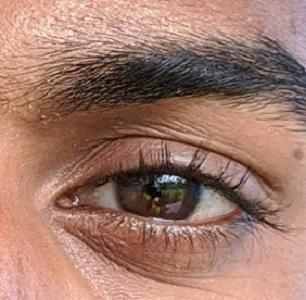open: (20, 116, 306, 281)
